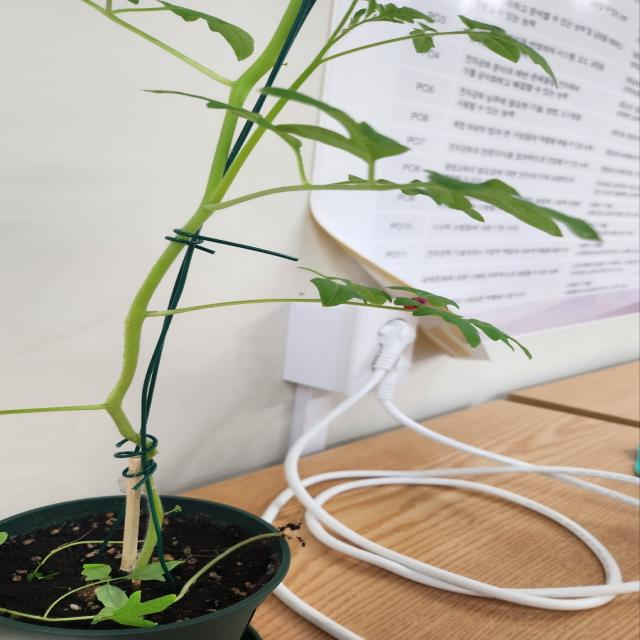bug: (394, 288, 450, 323)
